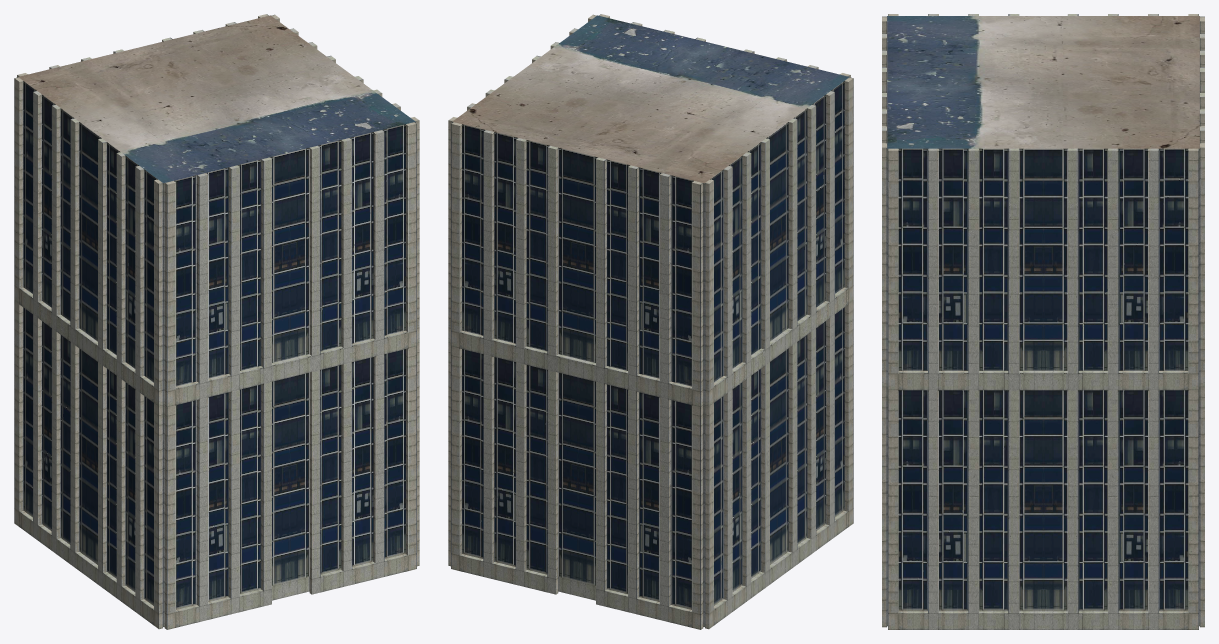
The model's file is BagSS02mid_100.fbx.
3 views of the same model, side by side, from view 1: azimuth 30°, elevation 25°; view 2: azimuth 150°, elevation 25°; view 3: azimuth 270°, elevation 25° (orthographic). The views are drawn at different scales.
Visible parts, largest first — view 1: midBox200, midMain200, midRoof200; view 2: midBox200, midMain200, midRoof200; view 3: midBox200, midMain200, midRoof200.
Part boxes in pixels (box(x1,y1,x2,y2)): midBox200: box(23, 81, 415, 626); midMain200: box(14, 14, 419, 629); midRoof200: box(18, 15, 415, 183); midBox200: box(452, 81, 844, 626); midMain200: box(448, 14, 853, 629); midRoof200: box(452, 15, 849, 183); midBox200: box(887, 148, 1199, 626); midMain200: box(882, 14, 1204, 629); midRoof200: box(887, 16, 1199, 148).
Bounding box in the file's own units: 38.7 × 63.2 × 38.6.
